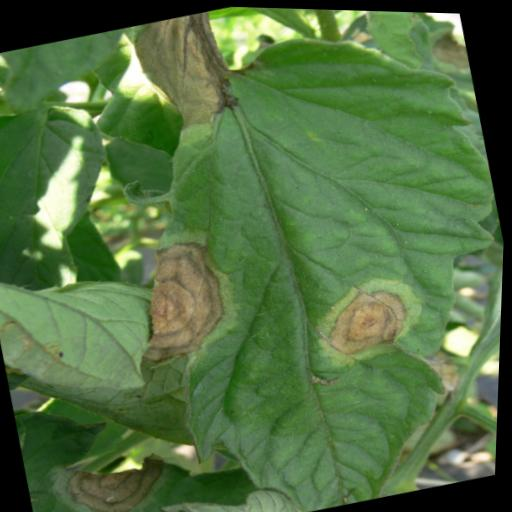Late Blight: (72, 2, 512, 512)
